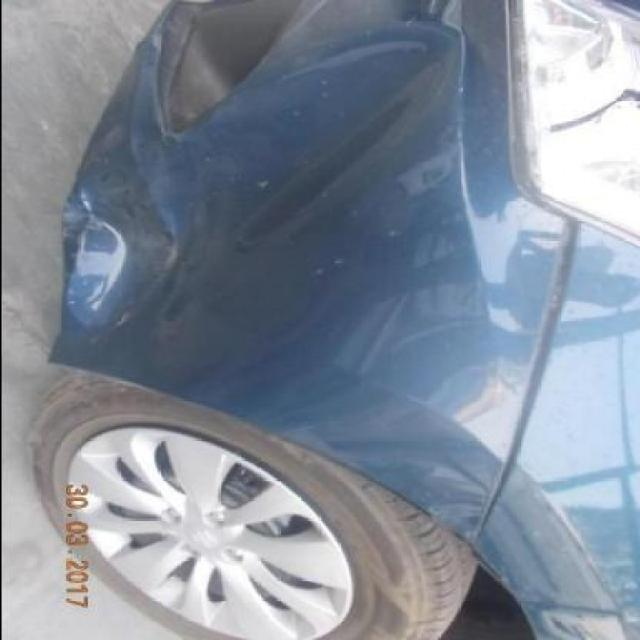damage: (55, 197, 192, 339)
